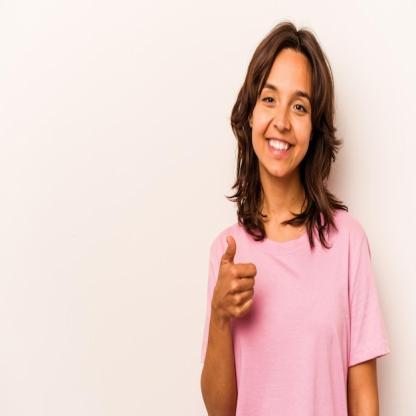thumb_up: (208, 228, 256, 320)
